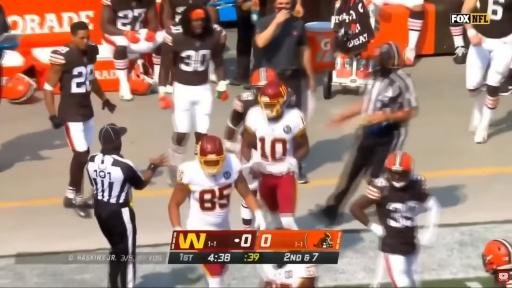Helmet: (197, 135, 226, 175), (258, 81, 287, 118), (2, 74, 36, 104), (385, 151, 413, 187), (483, 240, 511, 273), (129, 60, 154, 95), (250, 68, 277, 95), (251, 68, 277, 86)
Jersey: (366, 175, 429, 255), (177, 154, 241, 230), (245, 106, 305, 175), (49, 43, 98, 122), (164, 25, 226, 85), (102, 0, 155, 30), (474, 0, 511, 38), (262, 264, 317, 287), (164, 0, 209, 23), (229, 92, 258, 127), (230, 92, 258, 123), (233, 92, 258, 118), (493, 269, 511, 287)
Player: (44, 22, 116, 217), (350, 152, 440, 287), (159, 6, 228, 182), (241, 81, 309, 229), (168, 135, 265, 230), (462, 0, 511, 143), (101, 0, 162, 100), (225, 68, 277, 153), (373, 0, 425, 65), (160, 0, 218, 29), (482, 239, 511, 287), (260, 264, 317, 287), (499, 63, 511, 95), (447, 0, 463, 13)
